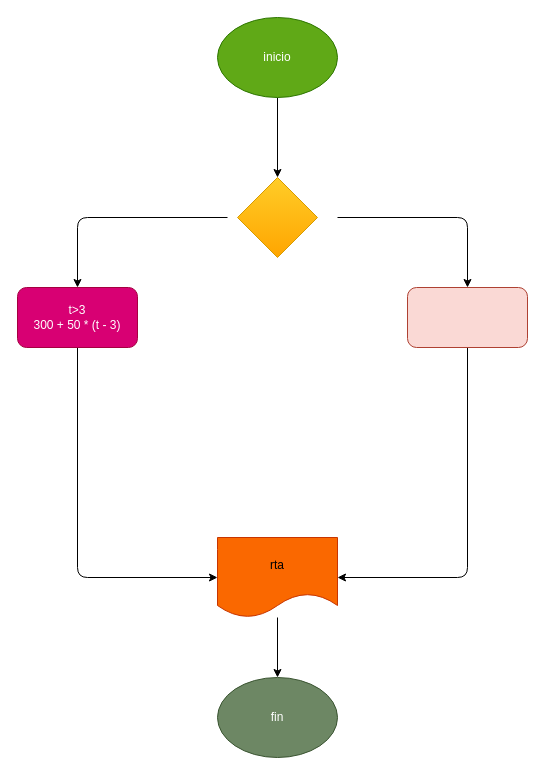
The diagram is 545 pixels wide and 775 high, and some of its shapes have lost their labels. The shapes that lost their labels are listed below. From the top down, each one's centre as x and y in pixels, then its label:
pixel 277 217: digite el tiempo que duro la llamada t
pixel 467 317: t<=3
